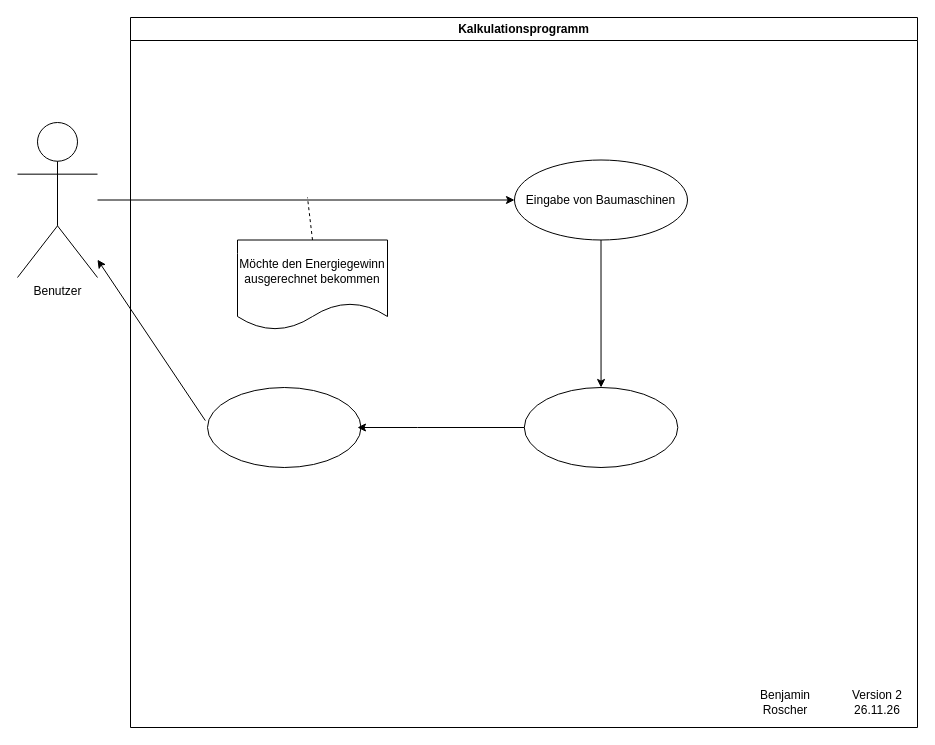
The diagram is 935 pixels wide and 745 high, and some of its shapes have lost their labels. Each missing label, with the centre of its shape:
"Ausgabe" goes at point 283,427.
"Ressourcenberechnung" goes at point 600,427.
